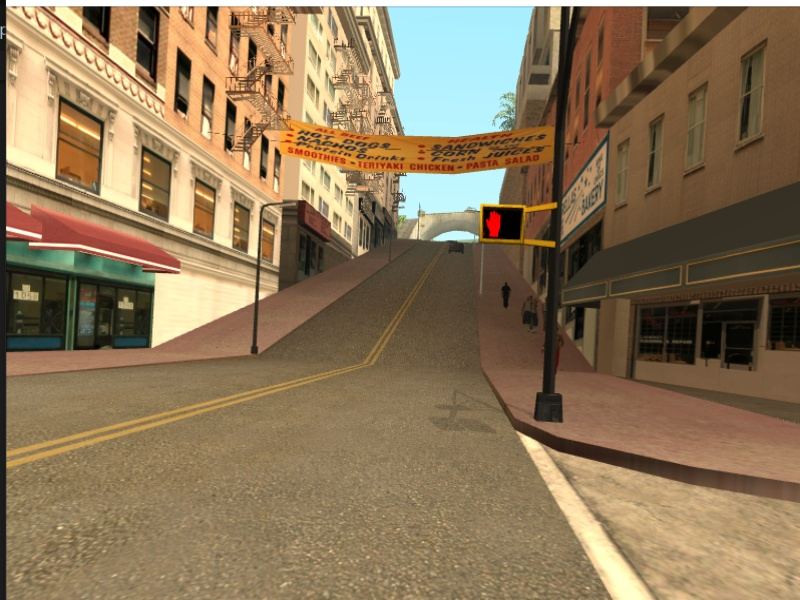person: (498, 277, 514, 309), (523, 294, 534, 326)
pole: (532, 6, 579, 425), (248, 203, 267, 355)
vehicle: (448, 239, 466, 255)
